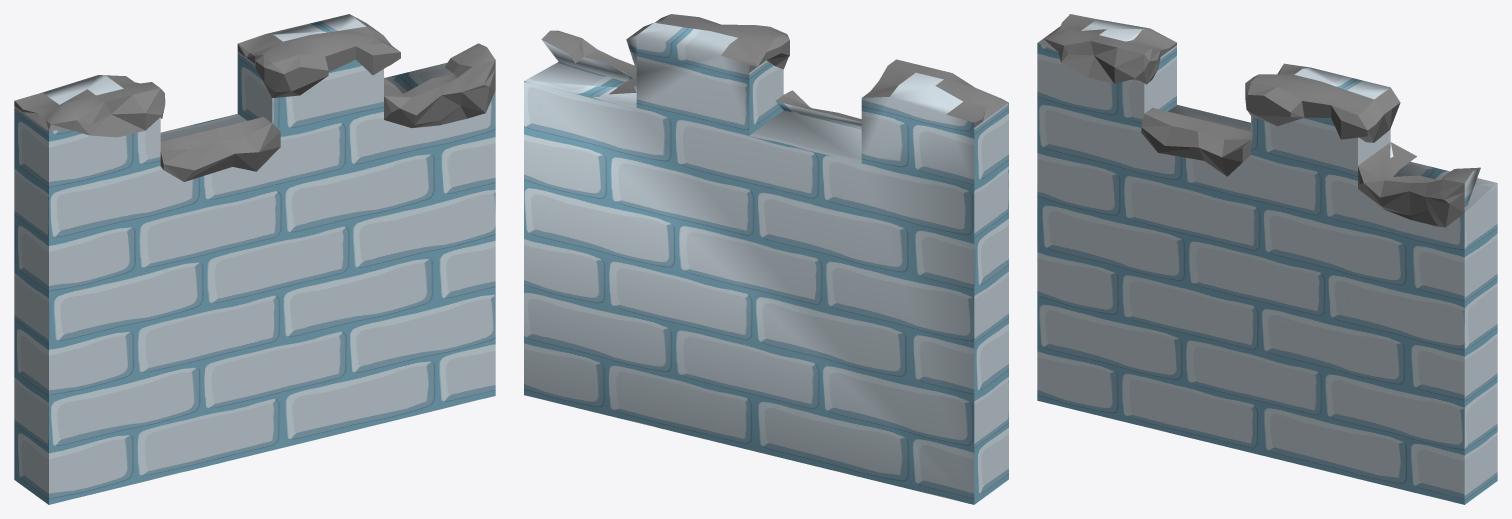
File: MuroSuperiorMapa.fbx
3 views of the same model, side by side, from view 1: azimuth 30°, elevation 25°; view 2: azimuth 150°, elevation 25°; view 3: azimuth 330°, elevation 25° (orthographic). The views are drawn at different scales.
Parts seen in each view (by area): view 1: pRTE ARRIBA; view 2: pRTE ARRIBA; view 3: pRTE ARRIBA.
Boxes of the visible parts, left/top/right/bottom form: pRTE ARRIBA: left=14, top=14, right=495, bottom=504; pRTE ARRIBA: left=524, top=14, right=1008, bottom=504; pRTE ARRIBA: left=1037, top=14, right=1497, bottom=504.
Bounding box in the file's own units: 15 × 12.5 × 2.5.
